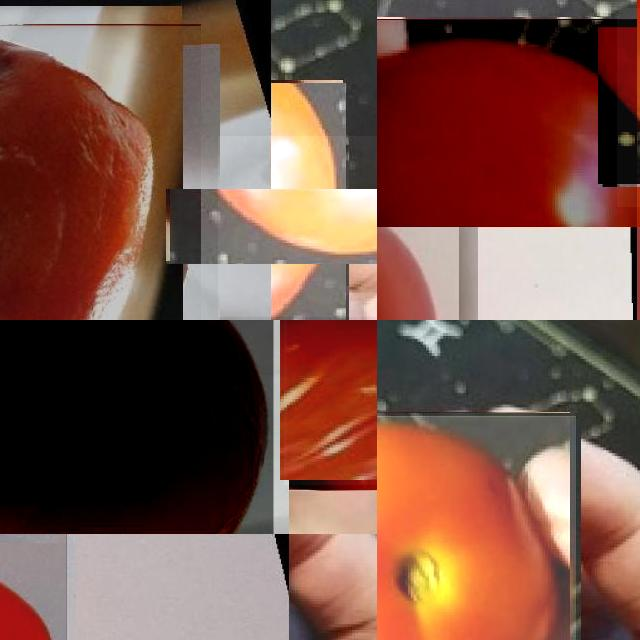0: (377, 19, 637, 227)
Fresh Tomato: (377, 416, 576, 640), (0, 534, 66, 640)
Rotten Tomato: (0, 24, 201, 320), (0, 320, 273, 534), (218, 136, 377, 317), (284, 320, 377, 485)
